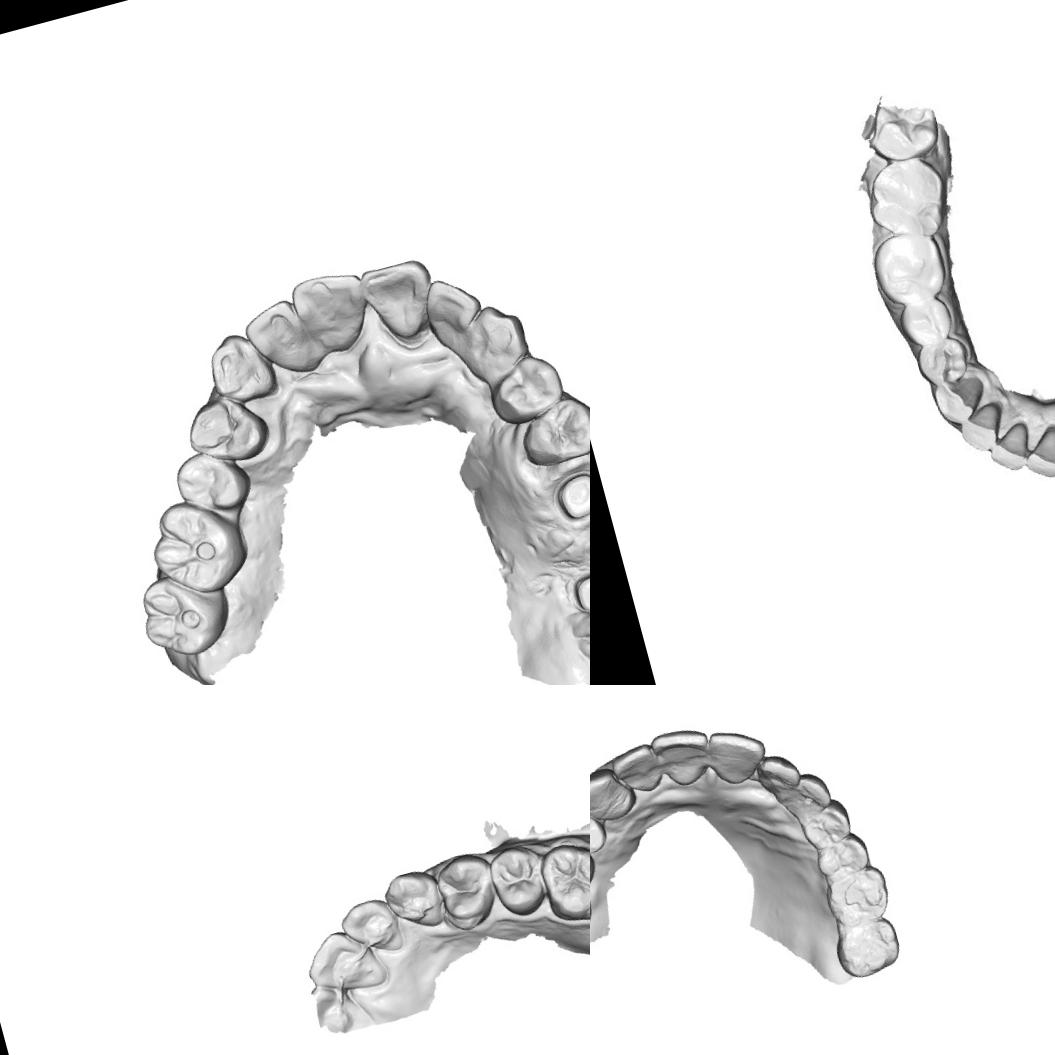abutment: (551, 469, 590, 523), (567, 563, 590, 619)
canine: (454, 296, 535, 386), (200, 324, 280, 410), (378, 864, 450, 938), (928, 370, 990, 429), (590, 760, 640, 829), (776, 766, 835, 824)
incisor: (286, 264, 376, 363), (354, 252, 442, 351), (298, 920, 390, 1003), (238, 295, 314, 387), (418, 268, 488, 353), (334, 892, 407, 964), (646, 722, 718, 792), (703, 720, 772, 790), (606, 740, 664, 800), (952, 399, 1010, 455), (982, 421, 1032, 476), (752, 748, 804, 798), (1019, 422, 1055, 481)
molar: (139, 487, 256, 605), (130, 562, 238, 666), (860, 218, 956, 314), (857, 152, 950, 243), (533, 832, 590, 930), (829, 912, 907, 982), (820, 860, 894, 928)
premolar: (178, 386, 275, 473), (168, 440, 256, 523), (482, 346, 570, 426), (430, 846, 506, 936), (482, 837, 555, 921), (512, 394, 590, 472), (897, 286, 961, 352), (795, 794, 854, 852), (811, 828, 872, 880), (915, 334, 972, 389), (590, 799, 610, 861)
